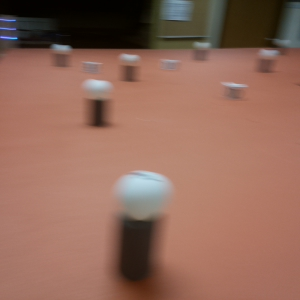obstacle: (110, 166, 169, 281), (83, 77, 110, 129), (121, 52, 138, 83), (258, 47, 277, 74), (53, 44, 70, 68), (195, 39, 209, 63)
